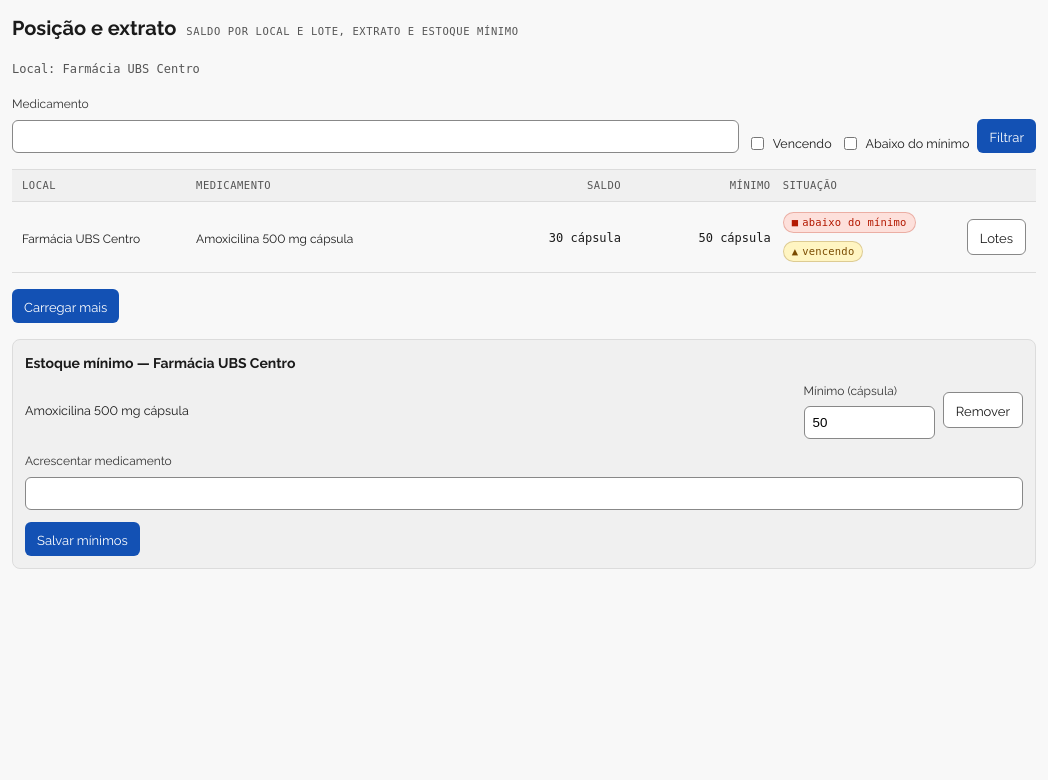
it: PharmacyStock › o campo digitado não lê sozinho; 'Carregar mais' segue o cursor do api
The width and height of the screenshot is (1048, 780).
Expected: the row "Amoxicilina" is shown, [12, 202, 1036, 273]
Step 1. Type "clona" into the field labelled "Medicamento" → point(375, 136), box [12, 120, 739, 153]
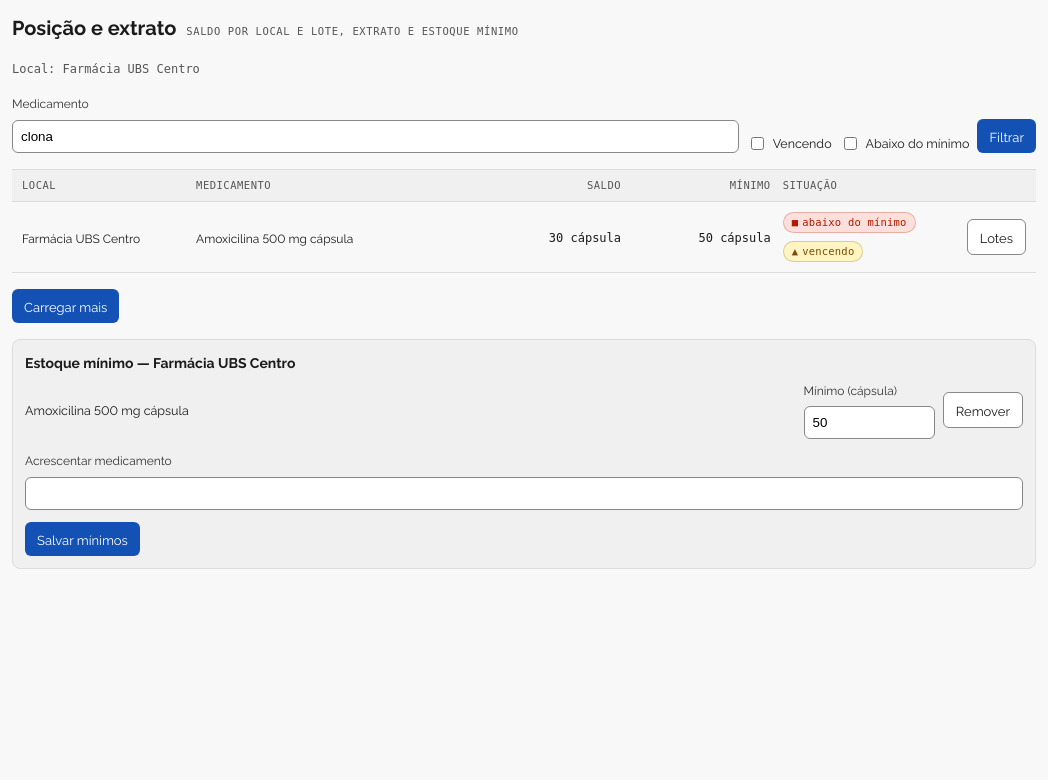
Step 2. Click the button "Carregar mais" → point(66, 306), box [12, 289, 119, 323]
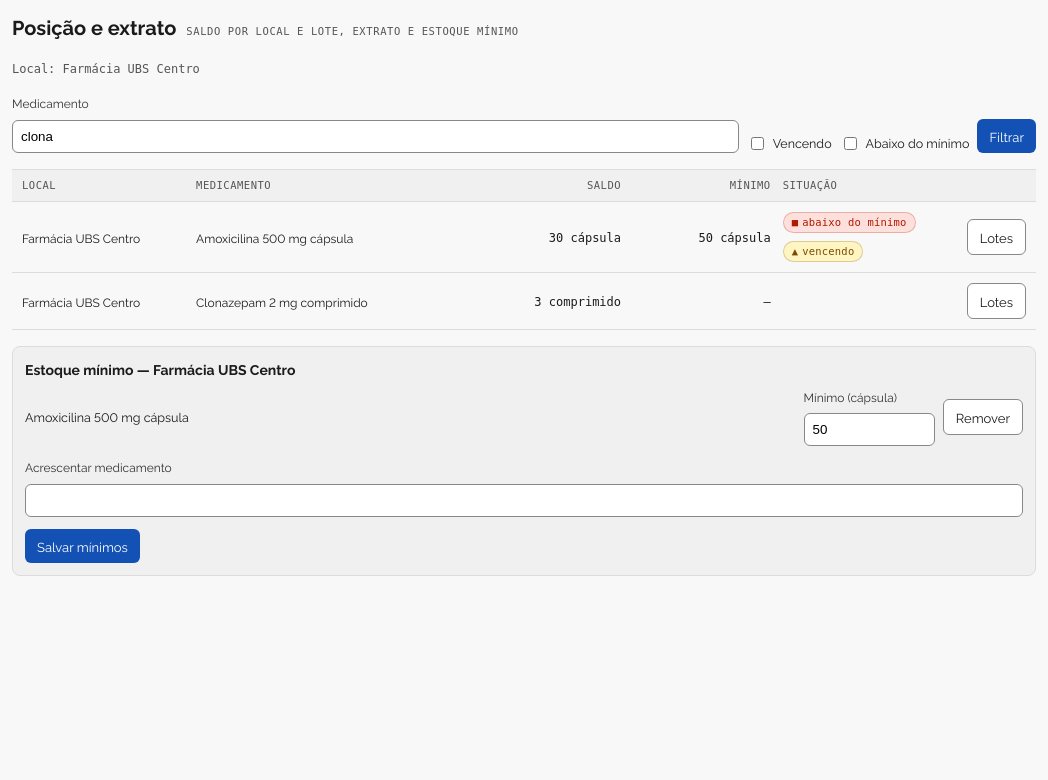
Expected: the row "Clonazepam" is shown, [12, 273, 1036, 330]
Expected: the button "Carregar mais" is gone
